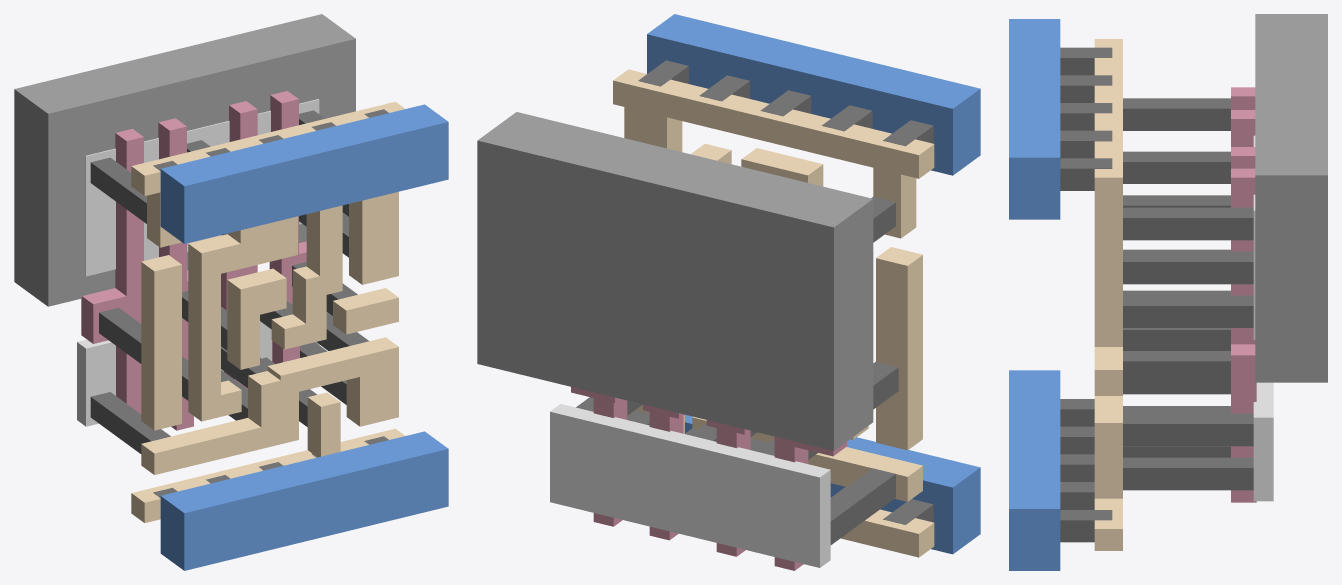
File: sky130_fd_sc_hd__o22ai_1.gds.gltf
3 views of the same model, side by side, from view 1: azimuth 30°, elevation 25°; view 2: azimuth 150°, elevation 25°; view 3: azimuth 270°, elevation 25° (orthographic). The views are drawn at different scales.
Parts seen in each view (by area): view 1: sky130_fd_sc_hd__o22ai_1_li1, sky130_fd_sc_hd__o22ai_1_met1, sky130_fd_sc_hd__o22ai_1_nwell, sky130_fd_sc_hd__o22ai_1_poly, sky130_fd_sc_hd__o22ai_1_licon, sky130_fd_sc_hd__o22ai_1_diff, sky130_fd_sc_hd__o22ai_1_mcon; view 2: sky130_fd_sc_hd__o22ai_1_nwell, sky130_fd_sc_hd__o22ai_1_li1, sky130_fd_sc_hd__o22ai_1_diff, sky130_fd_sc_hd__o22ai_1_met1, sky130_fd_sc_hd__o22ai_1_licon, sky130_fd_sc_hd__o22ai_1_mcon, sky130_fd_sc_hd__o22ai_1_poly; view 3: sky130_fd_sc_hd__o22ai_1_licon, sky130_fd_sc_hd__o22ai_1_nwell, sky130_fd_sc_hd__o22ai_1_met1, sky130_fd_sc_hd__o22ai_1_li1, sky130_fd_sc_hd__o22ai_1_mcon, sky130_fd_sc_hd__o22ai_1_poly, sky130_fd_sc_hd__o22ai_1_diff.
Part boxes in pixels (x1=…): sky130_fd_sc_hd__o22ai_1_li1: x1=131, y1=101, x2=404, y2=522; sky130_fd_sc_hd__o22ai_1_met1: x1=160, y1=104, x2=448, y2=570; sky130_fd_sc_hd__o22ai_1_nwell: x1=14, y1=14, x2=355, y2=306; sky130_fd_sc_hd__o22ai_1_poly: x1=81, y1=91, x2=306, y2=430; sky130_fd_sc_hd__o22ai_1_licon: x1=90, y1=110, x2=369, y2=453; sky130_fd_sc_hd__o22ai_1_diff: x1=77, y1=99, x2=319, y2=426; sky130_fd_sc_hd__o22ai_1_mcon: x1=153, y1=109, x2=388, y2=497; sky130_fd_sc_hd__o22ai_1_nwell: x1=477, y1=112, x2=873, y2=450; sky130_fd_sc_hd__o22ai_1_li1: x1=613, y1=69, x2=934, y2=557; sky130_fd_sc_hd__o22ai_1_diff: x1=550, y1=404, x2=830, y2=567; sky130_fd_sc_hd__o22ai_1_met1: x1=647, y1=14, x2=980, y2=554; sky130_fd_sc_hd__o22ai_1_licon: x1=576, y1=197, x2=898, y2=544; sky130_fd_sc_hd__o22ai_1_mcon: x1=638, y1=60, x2=933, y2=524; sky130_fd_sc_hd__o22ai_1_poly: x1=571, y1=387, x2=846, y2=570; sky130_fd_sc_hd__o22ai_1_licon: x1=1123, y1=98, x2=1253, y2=490; sky130_fd_sc_hd__o22ai_1_nwell: x1=1255, y1=14, x2=1327, y2=382; sky130_fd_sc_hd__o22ai_1_met1: x1=1009, y1=19, x2=1060, y2=570; sky130_fd_sc_hd__o22ai_1_li1: x1=1094, y1=39, x2=1122, y2=550; sky130_fd_sc_hd__o22ai_1_mcon: x1=1060, y1=47, x2=1112, y2=542; sky130_fd_sc_hd__o22ai_1_poly: x1=1231, y1=87, x2=1256, y2=502; sky130_fd_sc_hd__o22ai_1_diff: x1=1253, y1=135, x2=1273, y2=501.
Size of the model in its own units: 2.68 by 3.2 by 2.24.
